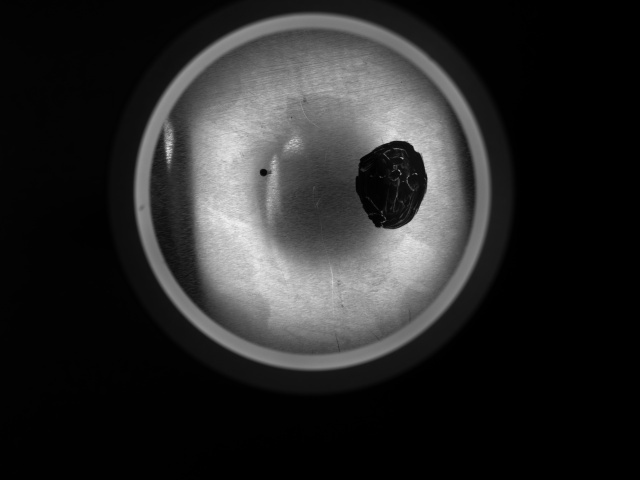zang_wu: (354, 139, 432, 229)
zhen_kong: (255, 166, 272, 179)
